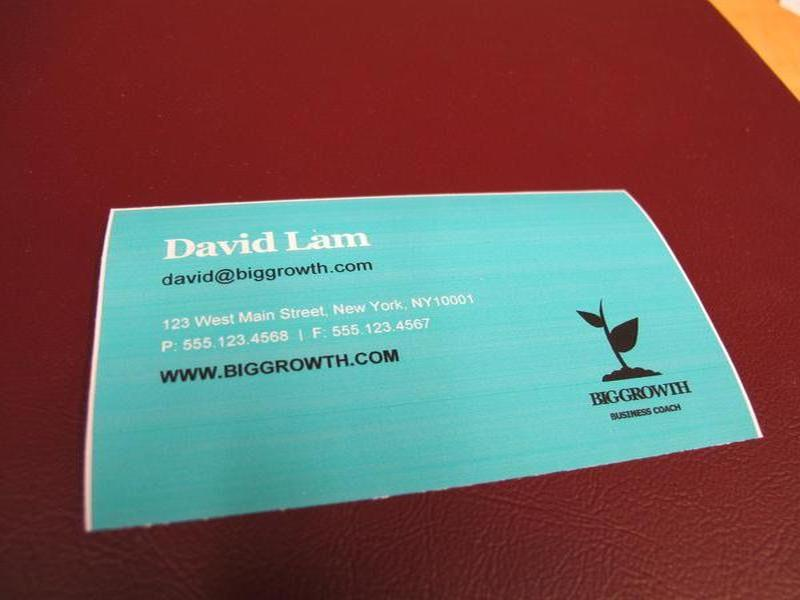card: (83, 184, 768, 517)
